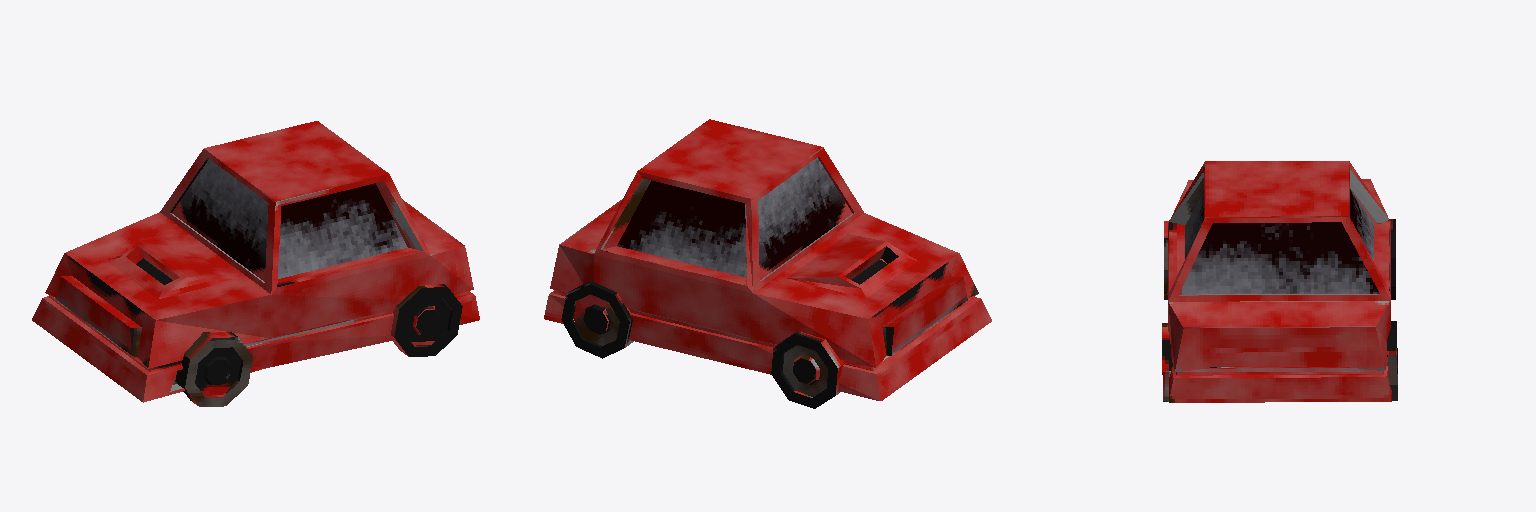
3 views of the same model, side by side, from view 1: azimuth 30°, elevation 25°; view 2: azimuth 150°, elevation 25°; view 3: azimuth 270°, elevation 25° (orthographic).
Visible parts, largest first — view 1: Car-1_Cylinder.002; view 2: Car-1_Cylinder.002; view 3: Car-1_Cylinder.002.
Part boxes in pixels (bbox=[...]): Car-1_Cylinder.002: bbox=[32, 121, 479, 406]; Car-1_Cylinder.002: bbox=[544, 119, 991, 408]; Car-1_Cylinder.002: bbox=[1162, 161, 1397, 402].
Size of the model in its own units: 0.9306 by 0.4569 by 0.562.
5 materials, 1 textured.